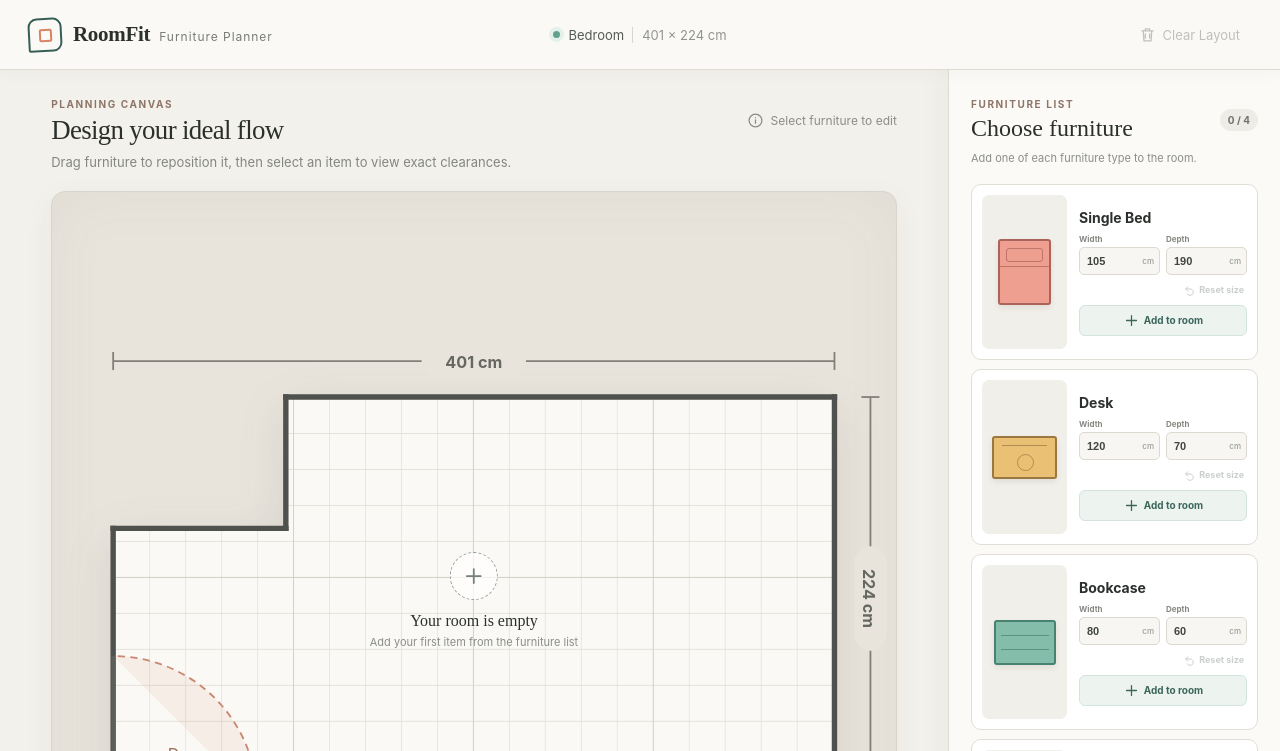
Test: RoomFit interface › updates furniture dimensions from the sidebar controls
Replace the text in the number field named "Desk width in centimeters" with "145" at (1113, 446), box 1087,440 -> 1139,452
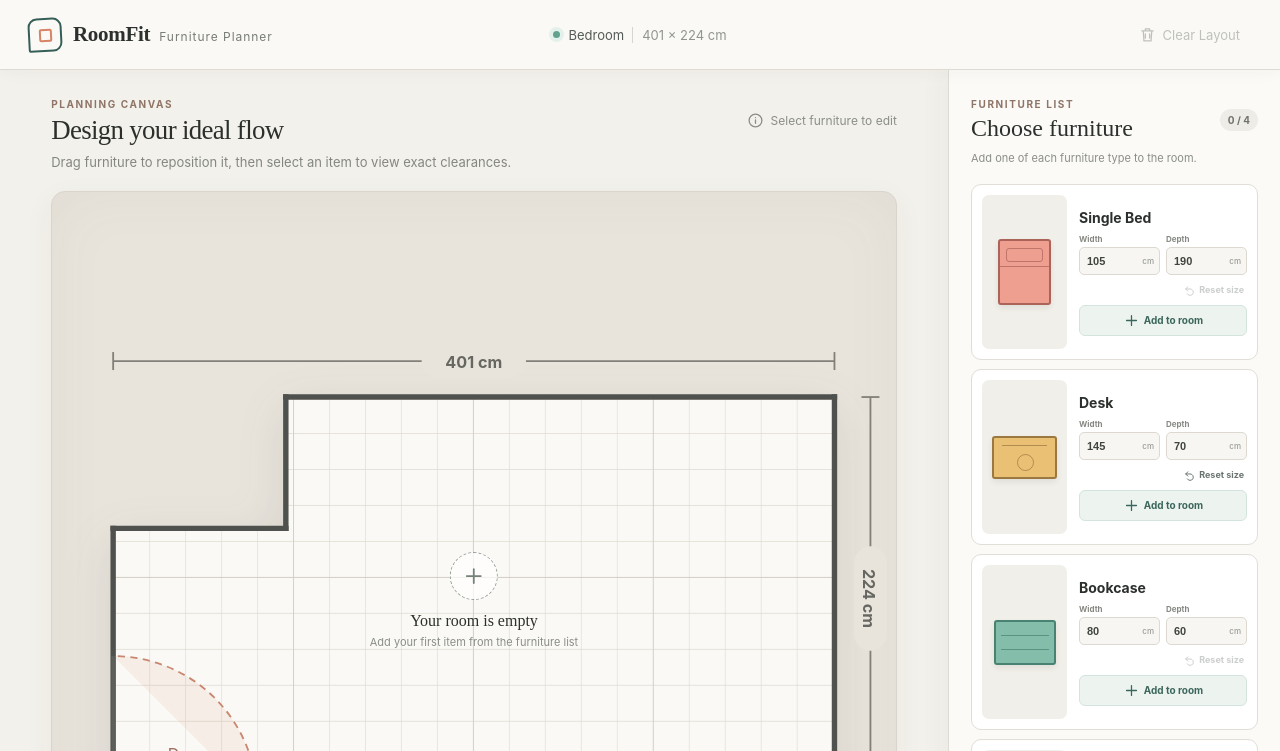
Click the button named "Add Desk" at (1024, 457), box 982,380 -> 1067,534
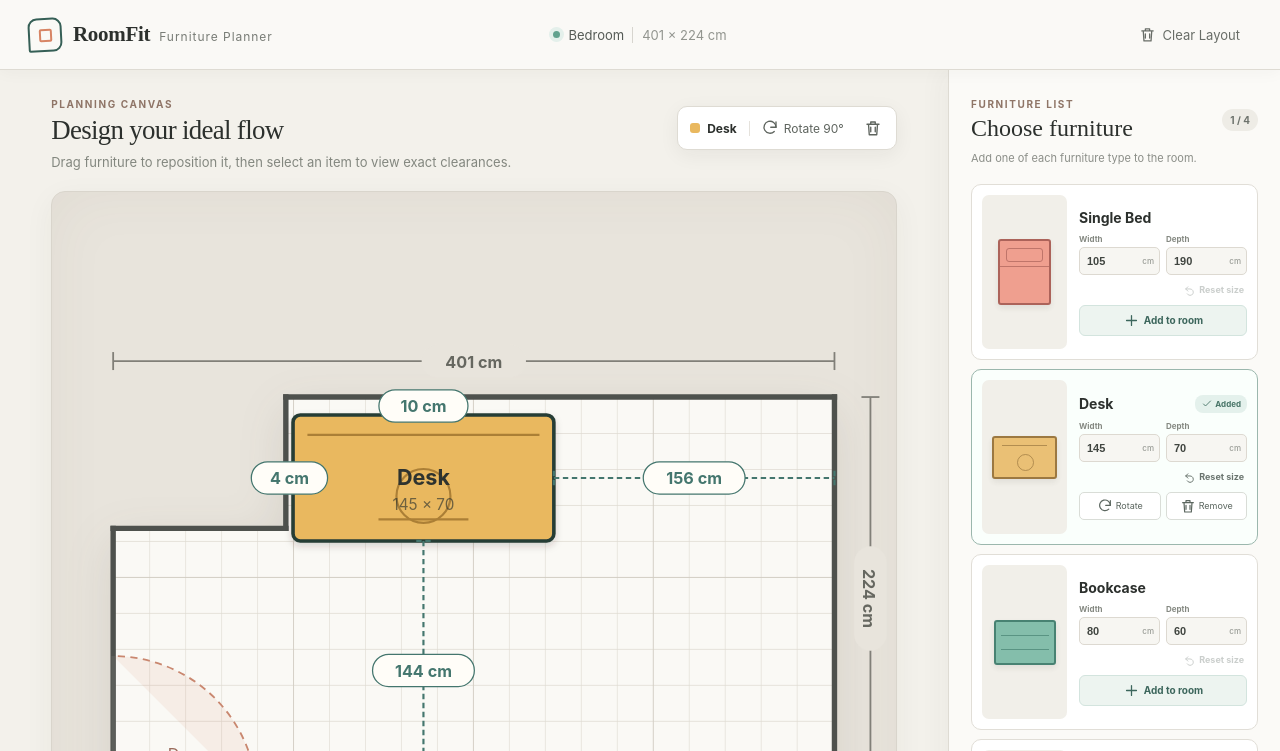
Expected: the button "Desk, 145 by 70 centimeters" is shown, 393,464 -> 455,514
Replace the text in the number field named "Desk depth in centimeters" with "85" at (1200, 448), box 1174,442 -> 1226,454
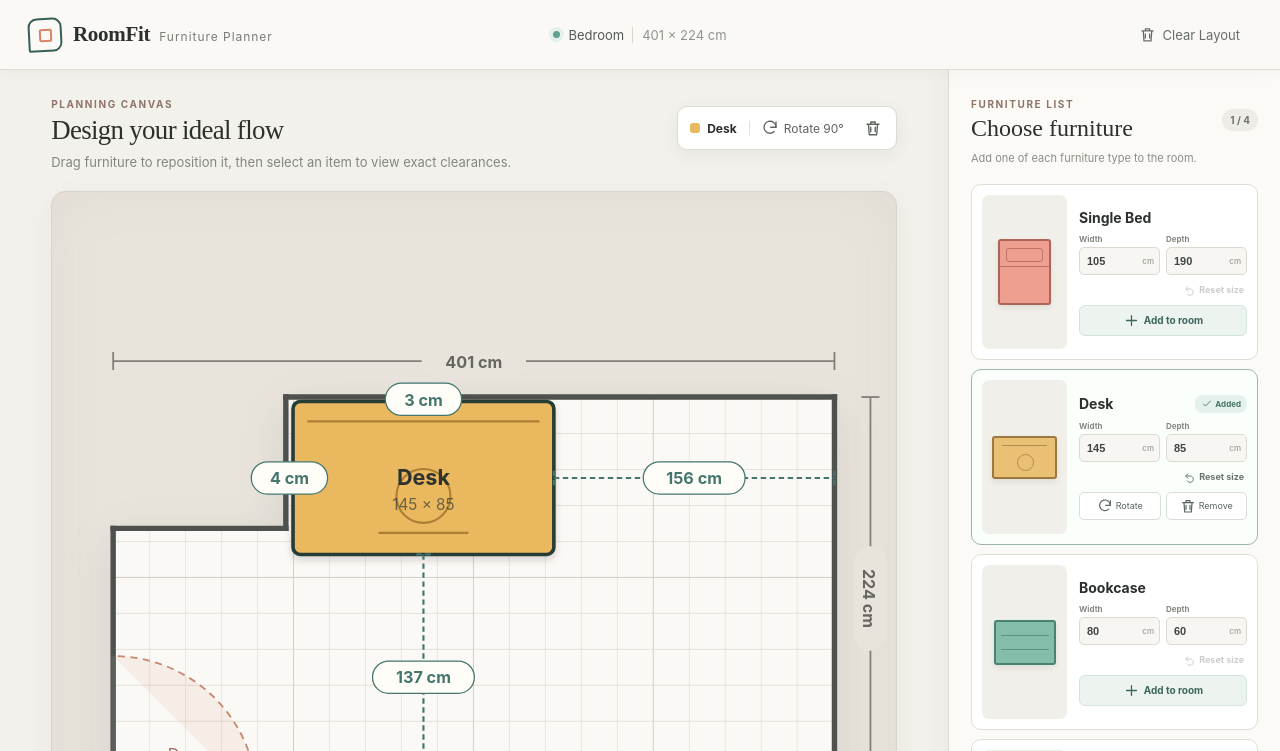
Expected: the button "Desk, 145 by 85 centimeters" is shown, 392,464 -> 455,514
Click the button with aria-label "Reset Desk dimensions" at (1214, 476), box 1180,468 -> 1247,484
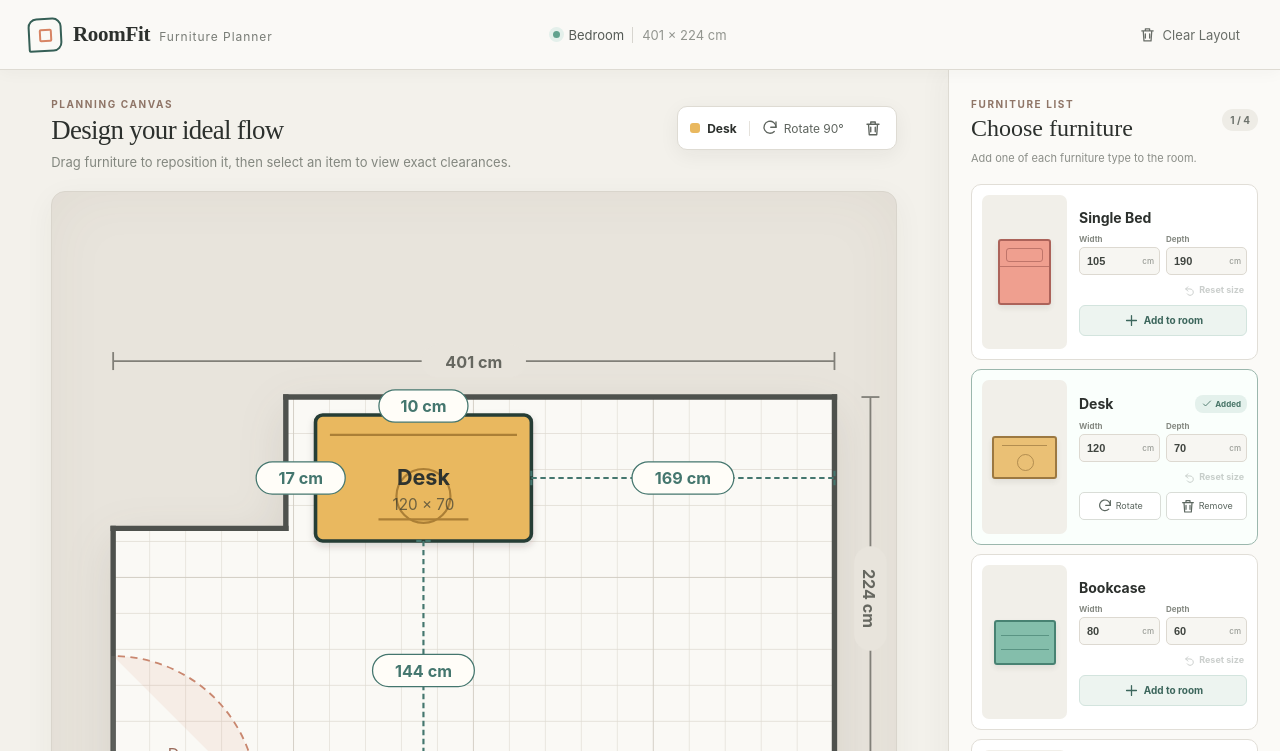
Expected: the button "Desk, 120 by 70 centimeters" is shown, 393,464 -> 455,514
Expected: the button with aria-label "Reset Desk dimensions" is disabled, 1180,468 -> 1247,484
